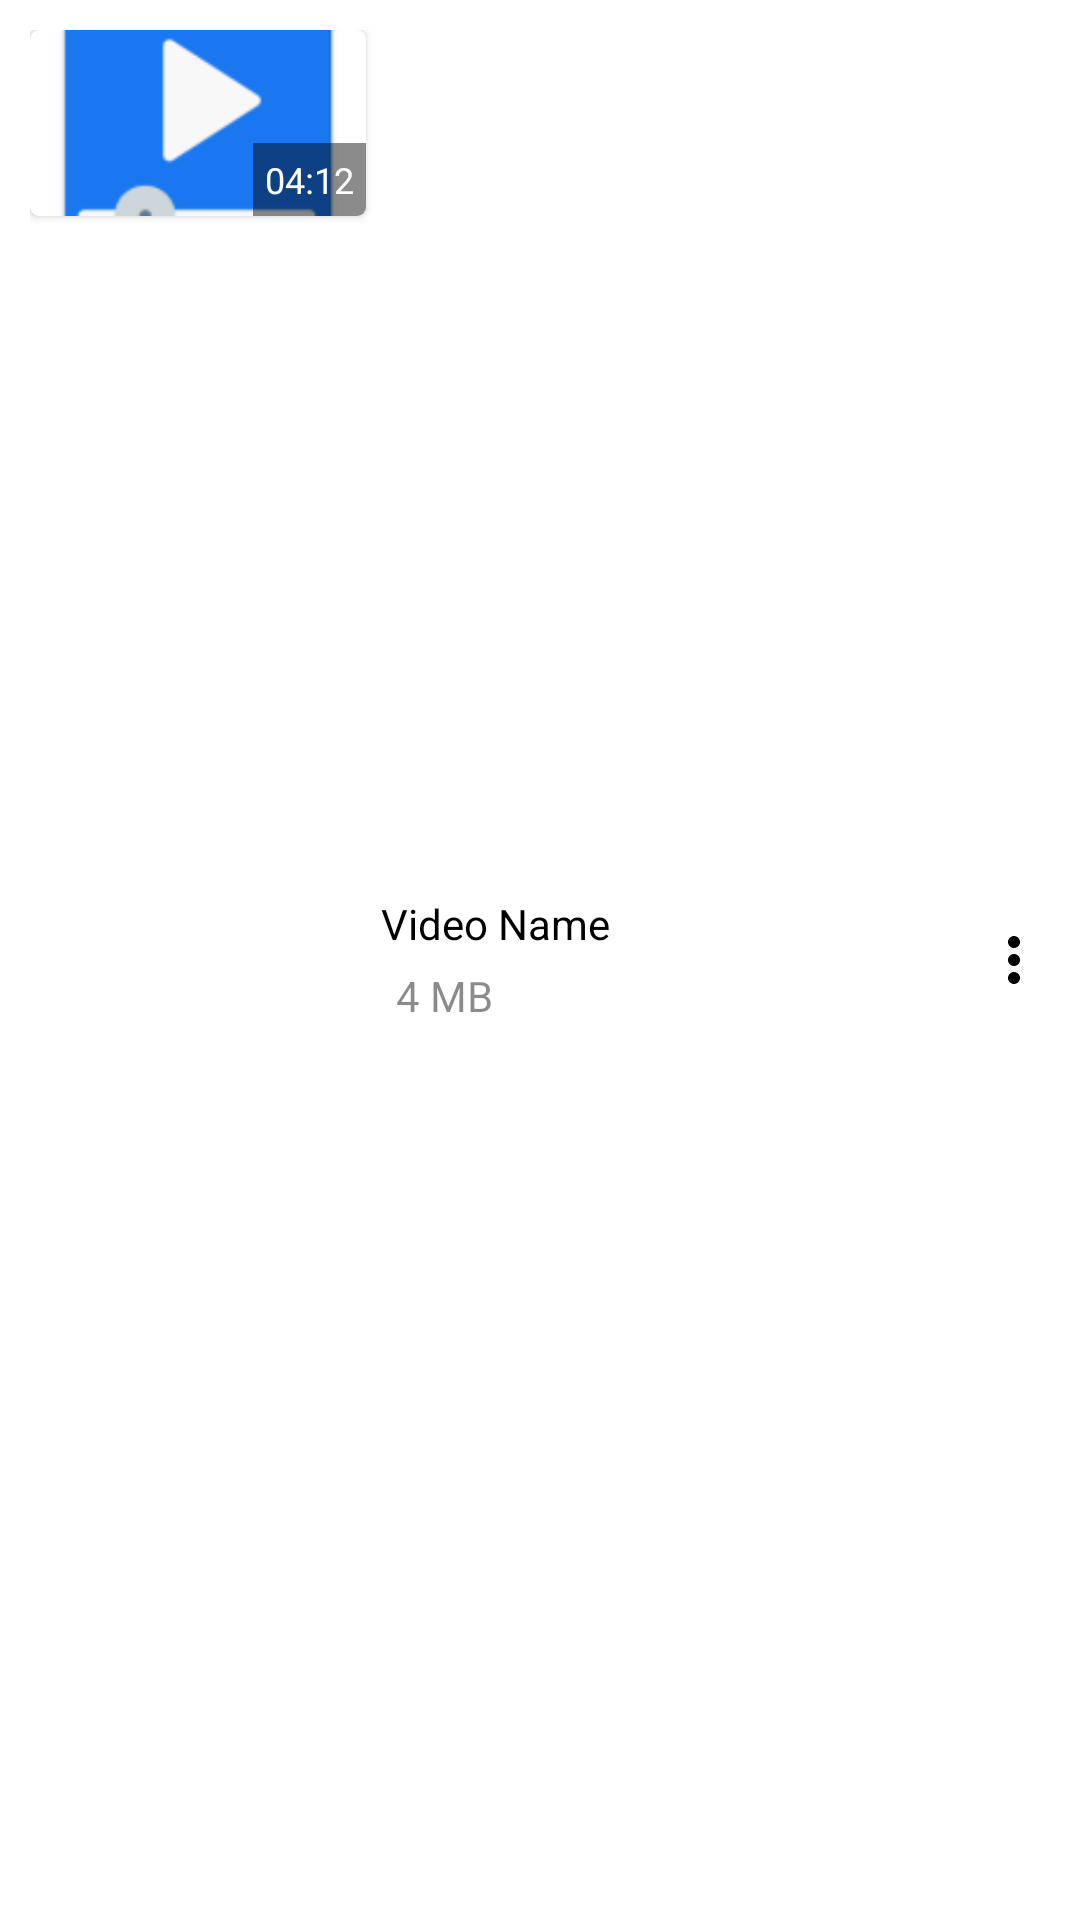

Icon click points for this 1080x1920 phone screenshot, format point (x, y):
more: point (1014, 960)
